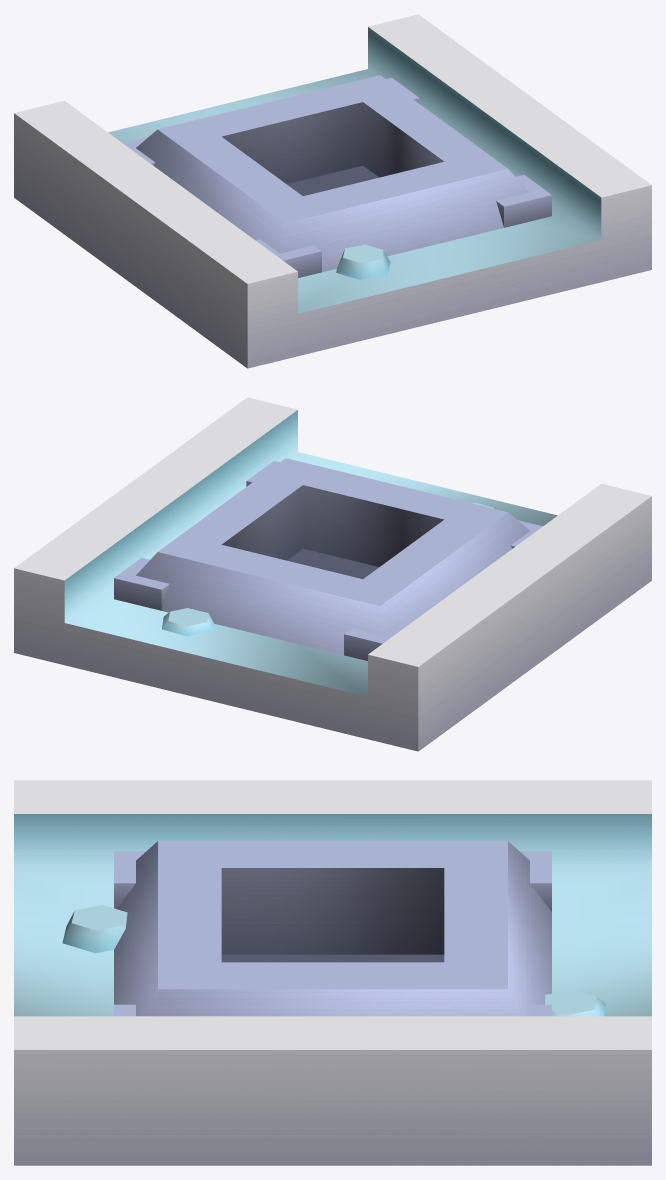
The model's file is tower-defense-kit--snow-tile-spawn.glb.
3 renders of one model, top to bottom at view 1: azimuth 30°, elevation 25°; view 2: azimuth 150°, elevation 25°; view 3: azimuth 270°, elevation 25°, orthographic. The views are drawn at different scales.
Visible parts, largest first — view 1: snow-tile-spawn; view 2: snow-tile-spawn; view 3: snow-tile-spawn.
Part boxes in pixels (bbox=[...]): snow-tile-spawn: bbox=[14, 14, 651, 368]; snow-tile-spawn: bbox=[14, 397, 651, 751]; snow-tile-spawn: bbox=[14, 780, 651, 1165].
Bounding box in the file's own units: 1 × 0.2 × 1.
1 material, 1 textured.
